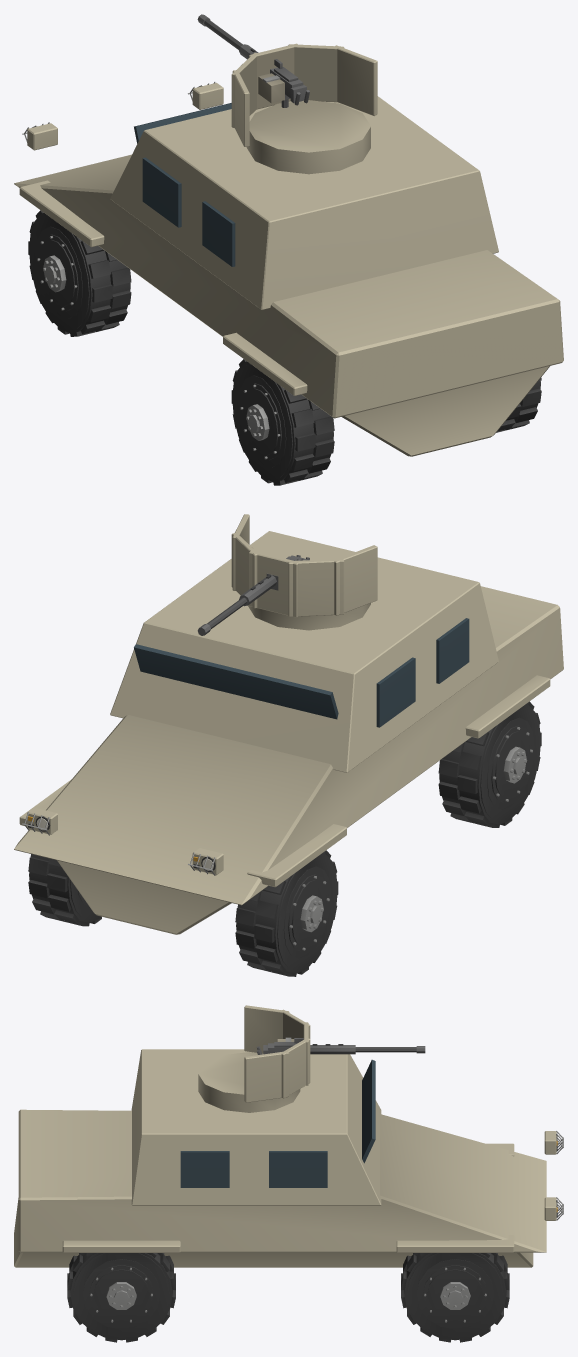
The model's file is usa_lv_jltv_gp.glb.
3 views of the same model, one above another, from view 1: azimuth 30°, elevation 25°; view 2: azimuth 150°, elevation 25°; view 3: azimuth 270°, elevation 25° (orthographic). The views are drawn at different scales.
Visible parts, largest first — view 1: body, turret, wheel_2, wheel_0, barrel, wheel_3; view 2: body, turret, wheel_0, wheel_2, wheel_1, barrel; view 3: body, wheel_1, wheel_3, turret, barrel.
Part boxes in pixels (x1,y1,x2,y2): body: (14,81,563,456); turret: (231,43,377,174); wheel_2: (231,359,334,485); wheel_0: (28,210,131,336); barrel: (197,14,309,107); wheel_3: (496,377,541,432); body: (14,531,563,934); turret: (231,514,377,630); wheel_0: (235,850,338,976); wheel_2: (438,701,541,827); wheel_1: (28,854,101,926); barrel: (197,555,309,635); body: (14,1049,563,1267); wheel_1: (401,1253,509,1342); wheel_3: (67,1253,175,1342); turret: (198,1005,310,1112); barrel: (256,1037,425,1054).
Bounding box in the file's own units: 2.58 × 2.94 × 5.6.
